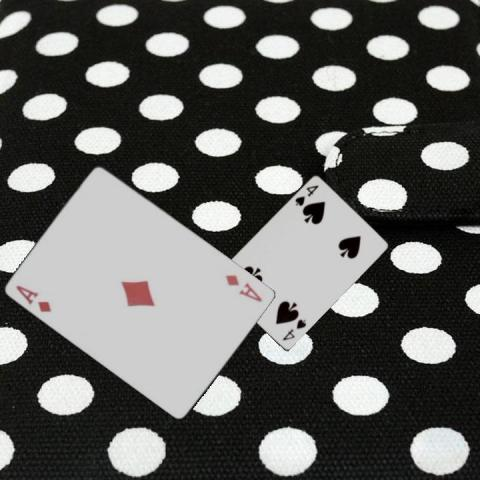4s: (292, 182, 320, 207), (280, 316, 308, 341)
Ad: (223, 272, 264, 304), (13, 282, 53, 314)
